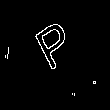P_NW: (30, 5, 80, 68)
